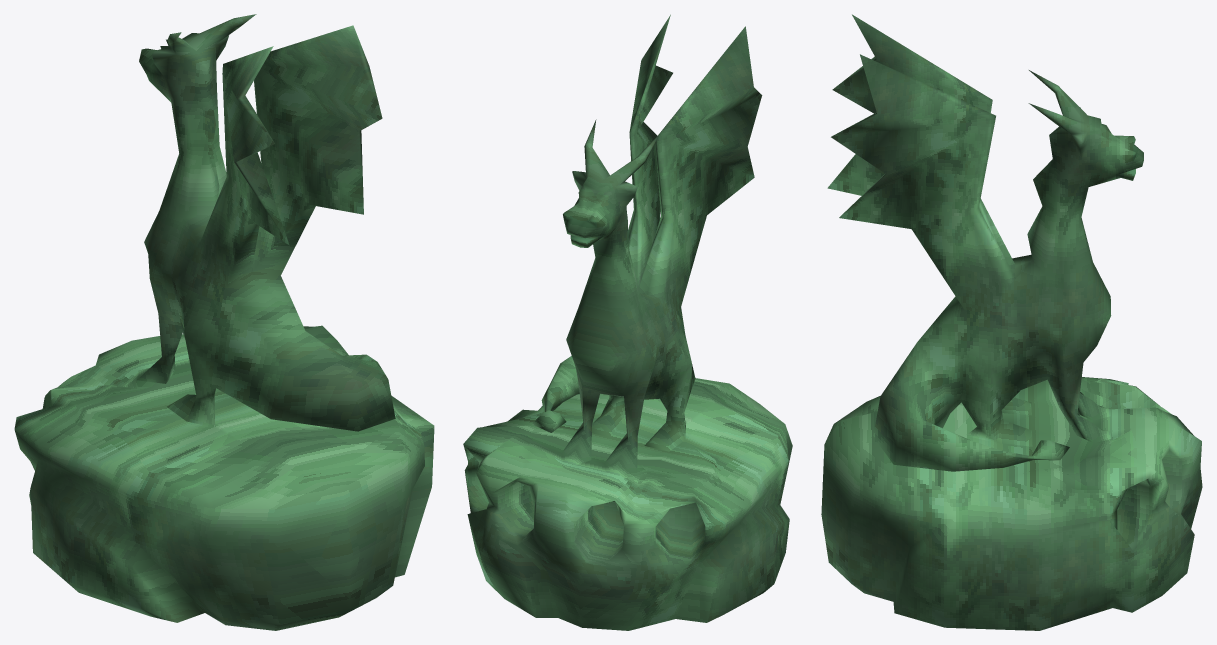
File: Estatua.obj
The picture shows the model from 3 angles, left to right: view 1: azimuth 30°, elevation 25°; view 2: azimuth 150°, elevation 25°; view 3: azimuth 270°, elevation 25°; orthographic projection. The views are drawn at different scales.
Visible parts, largest first — view 1: Spirit_Dragon; view 2: Spirit_Dragon; view 3: Spirit_Dragon.
Part boxes in pixels (x1,y1,x2,y2): Spirit_Dragon: (14, 14, 434, 630); Spirit_Dragon: (463, 14, 792, 630); Spirit_Dragon: (821, 14, 1202, 630).
Size of the model in its own units: 5.1 by 8.55 by 5.56.
